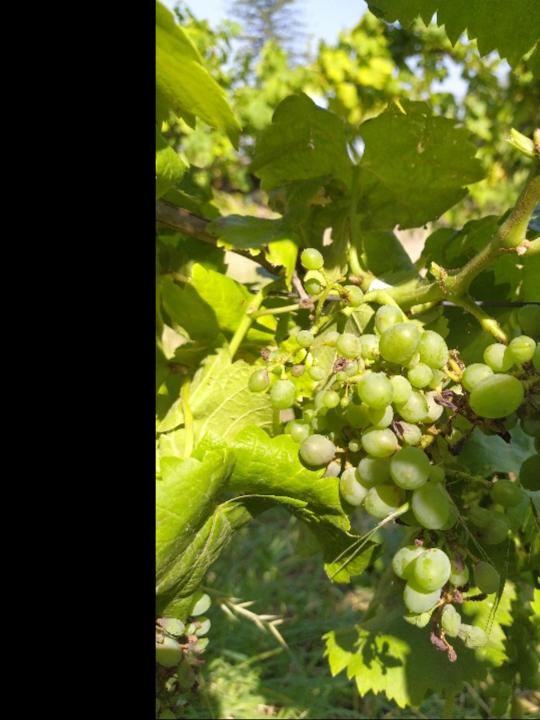grape: (245, 243, 511, 666), (458, 299, 540, 531)
